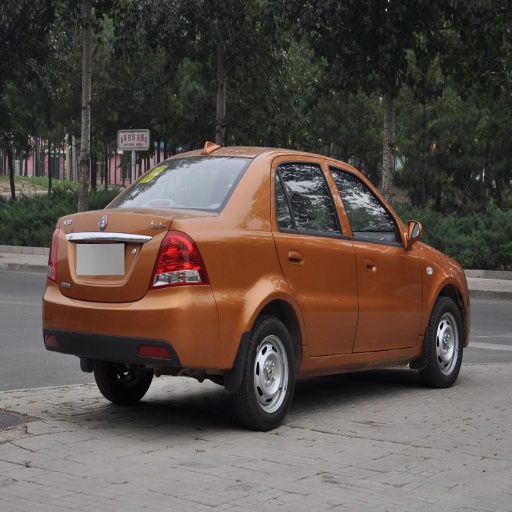back_bumper: (45, 281, 253, 370)
back_right_door: (273, 155, 357, 355)
